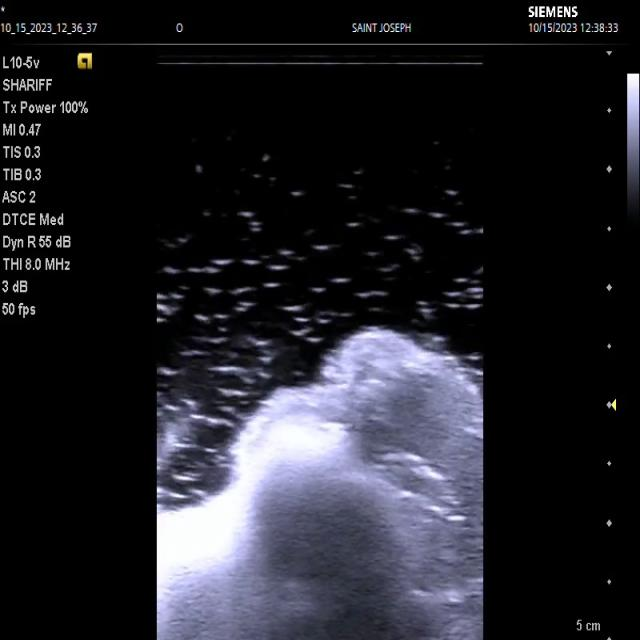tissue: (157, 327, 484, 640)
